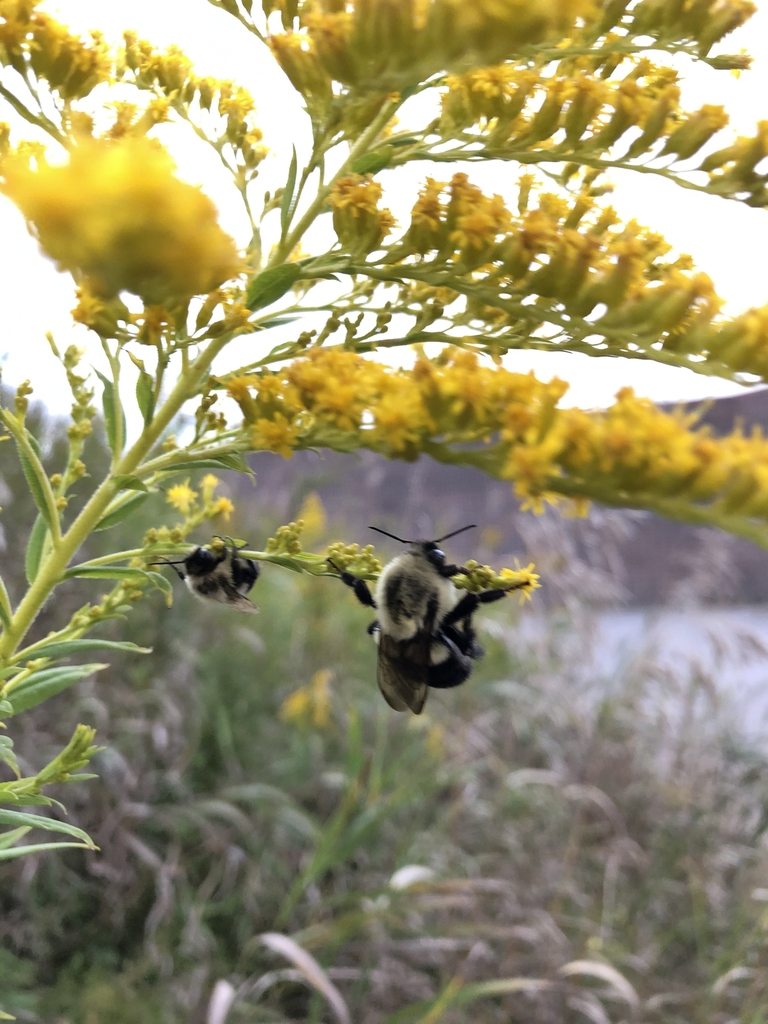bumblebee: (327, 524, 530, 717), (150, 536, 262, 613)
